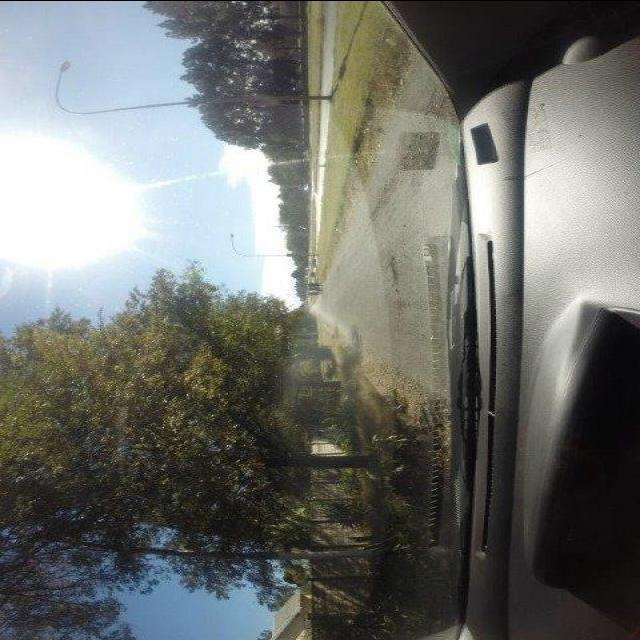jalan retak: (356, 93, 446, 233)
lubang: (382, 256, 404, 291)
